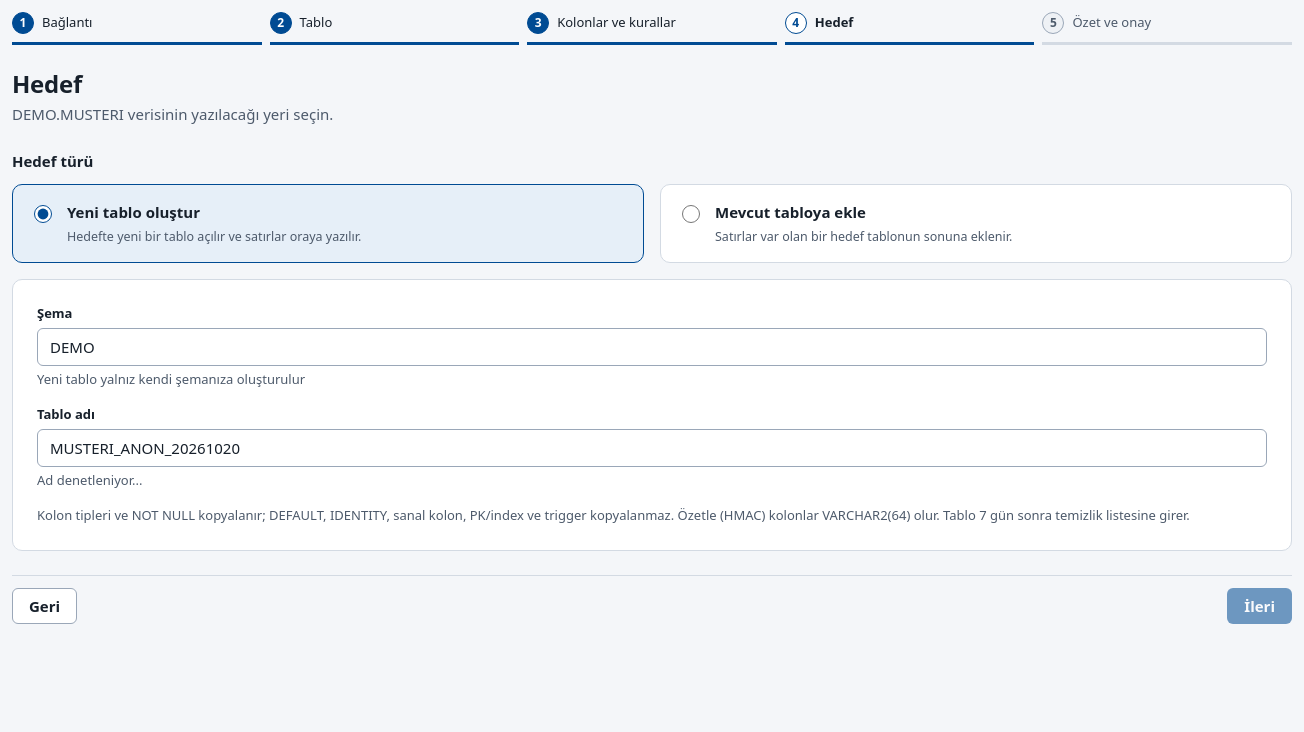
Test: Target › geçersiz ad hata gösterir ve İleri kapalıdır
This screenshot has width=1304, height=732.
Replace the text in the field labelled "Tablo adı" with "1a-b" at (652, 448), box [37,429,1267,467]
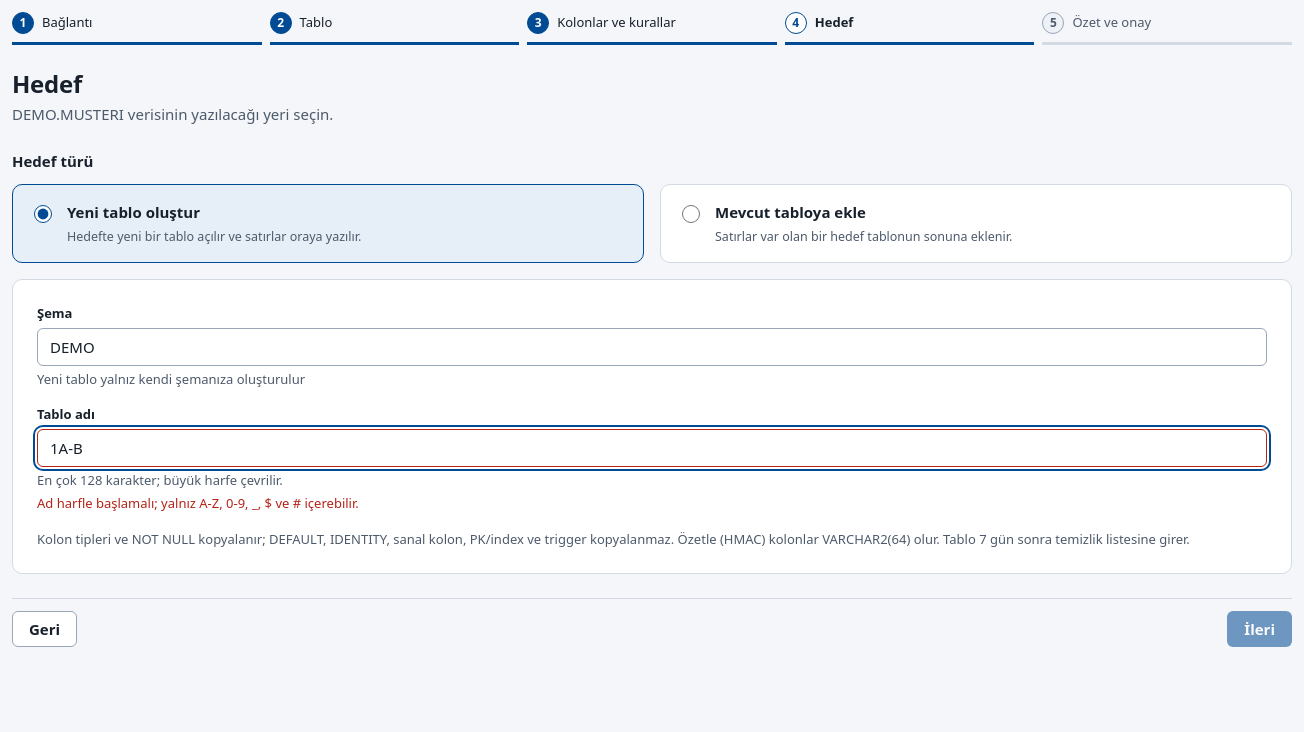
Check: the button "İleri" is disabled, box [1227,611,1292,647]
Check: the text "Ad harfle başlamalı; yalnız A-Z, 0-9, _, $ ve # içerebilir." is shown, box [37,494,359,512]
